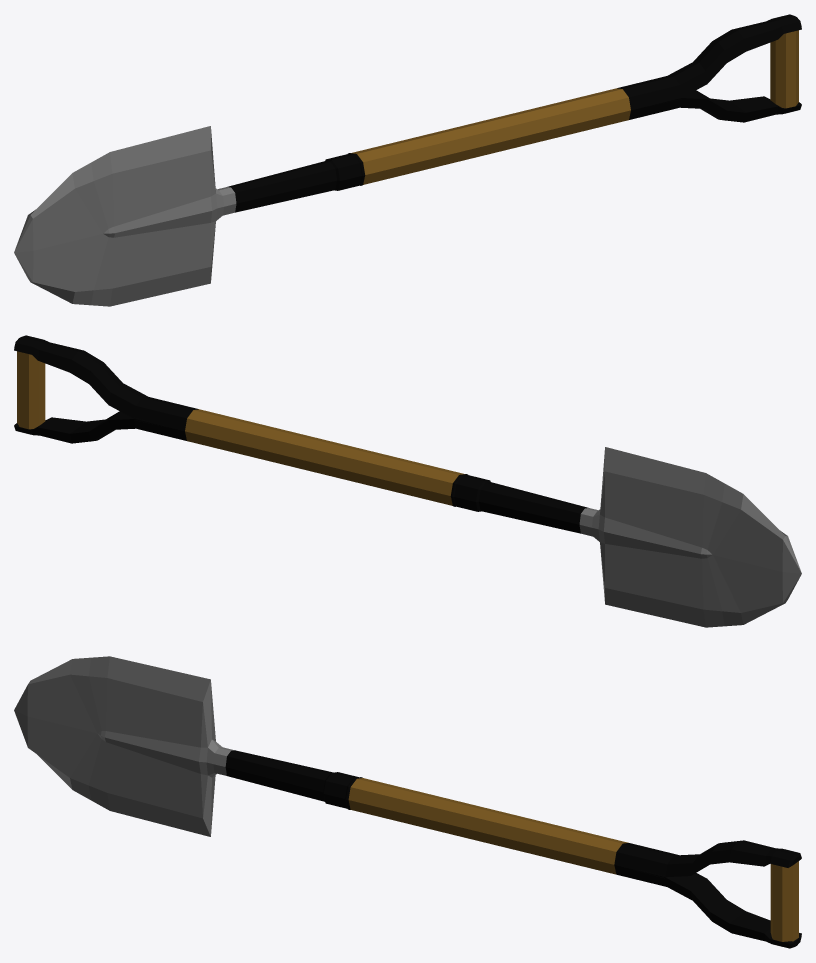
The model's file is Shovel.fbx.
3 views of the same model, one above another, from view 1: azimuth 30°, elevation 25°; view 2: azimuth 150°, elevation 25°; view 3: azimuth 330°, elevation 25° (orthographic).
Parts seen in each view (by area): view 1: Cube; view 2: Cube; view 3: Cube.
Part boxes in pixels (<box>): Cube: <box>14,14,801,306</box>; Cube: <box>14,335,801,627</box>; Cube: <box>14,656,801,948</box>.
Size of the model in its own units: 5.13 by 0.9873 by 0.1966.
1 material, 1 textured.
